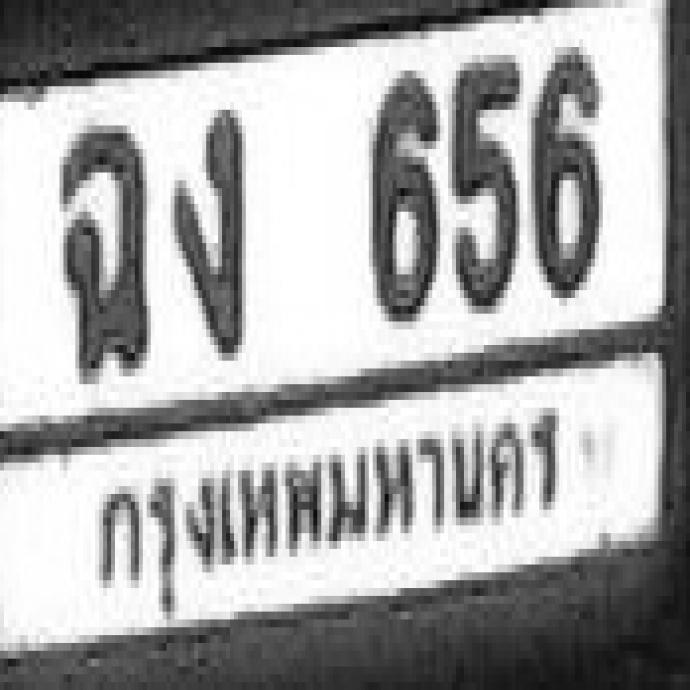5: (449, 50, 516, 305)
6: (528, 40, 596, 291), (367, 64, 435, 312)
A07: (170, 104, 241, 350)
A09: (57, 119, 145, 370)
BKK: (83, 399, 572, 601)
